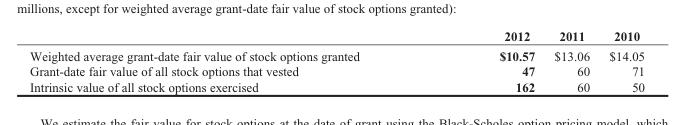table: (29, 28, 644, 93)
table column: (29, 28, 428, 93), (428, 28, 543, 93), (543, 28, 598, 93), (598, 28, 644, 93)
table column header: (29, 28, 644, 45)
table row: (29, 45, 644, 63), (29, 28, 644, 45), (29, 63, 644, 78), (29, 78, 644, 93)
